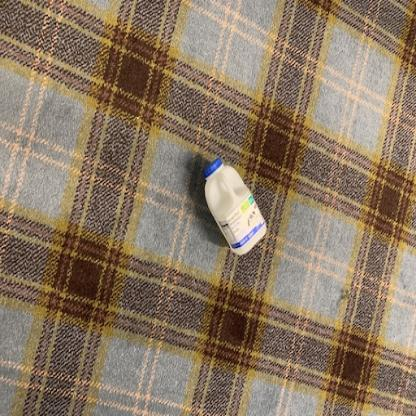trash: (201, 159, 268, 257)
